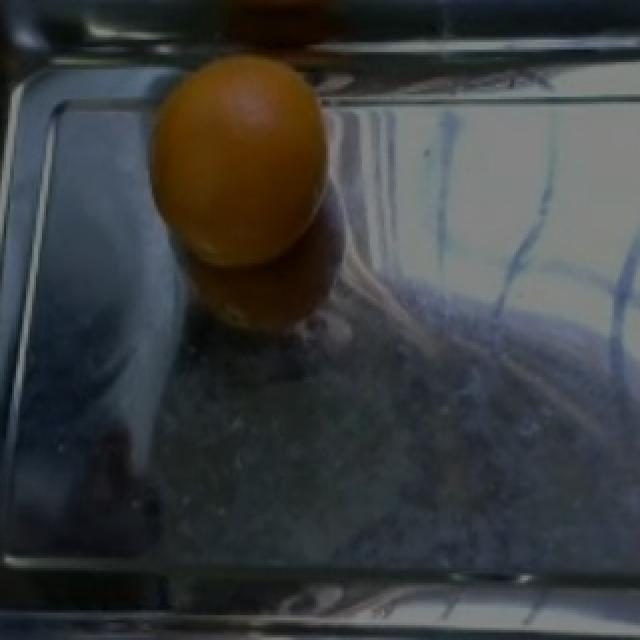Fruit: (134, 47, 342, 283)
